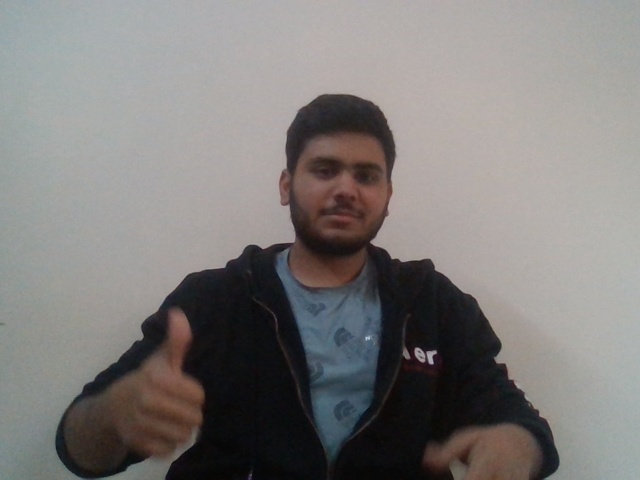Yes: (96, 301, 226, 463)
